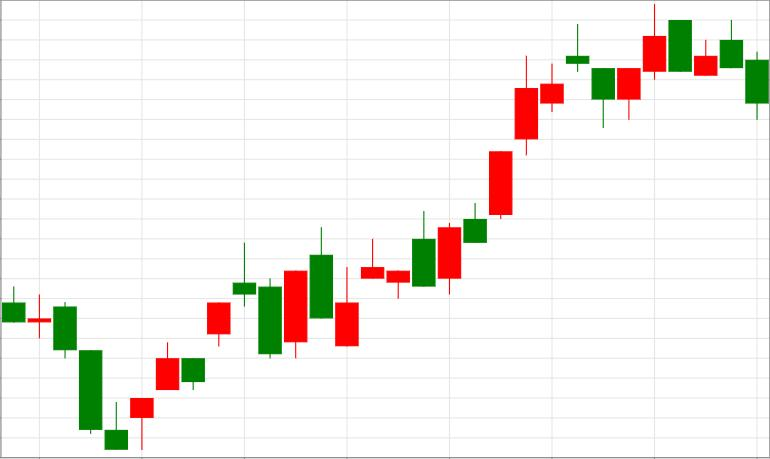evening_star_fall: (438, 23, 615, 294), (130, 244, 282, 450)
